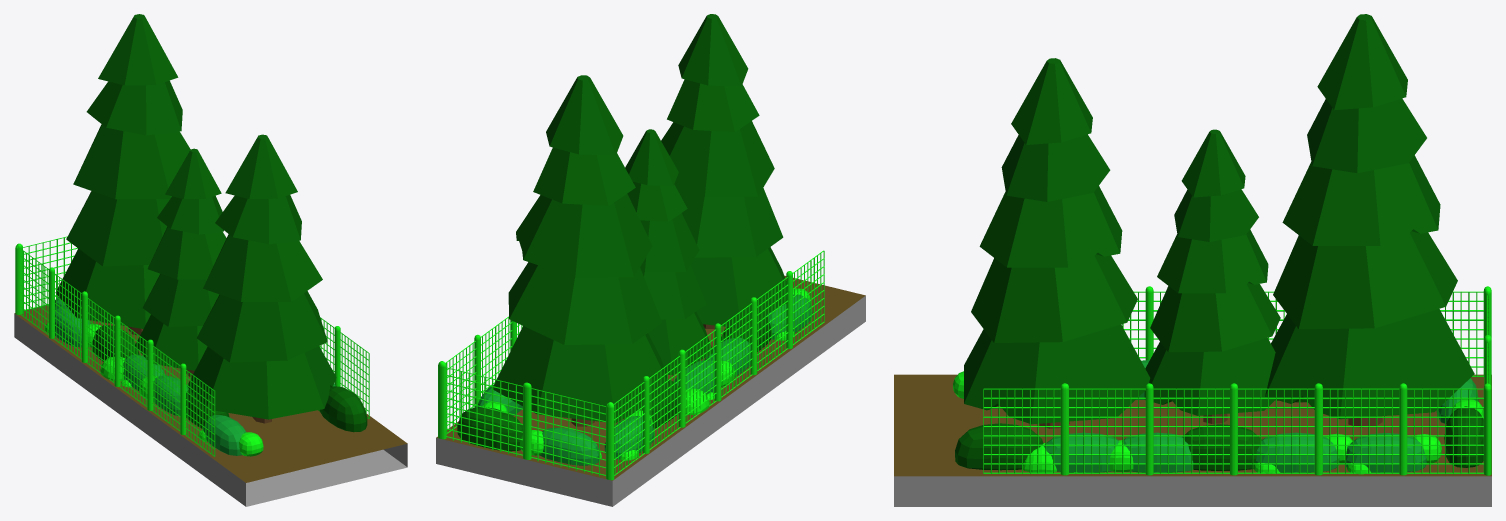
File: Forest2.glb
3 views of the same model, side by side, from view 1: azimuth 30°, elevation 25°; view 2: azimuth 150°, elevation 25°; view 3: azimuth 270°, elevation 25° (orthographic). The views are drawn at different scales.
Parts seen in each view (by area): view 1: B7.001; view 2: B7.001; view 3: B7.001.
Boxes of the visible parts, <box> form: B7.001: <box>14,14,407,506</box>; B7.001: <box>436,14,865,506</box>; B7.001: <box>894,14,1491,506</box>.
Size of the model in its own units: 70.75 by 141 by 176.
